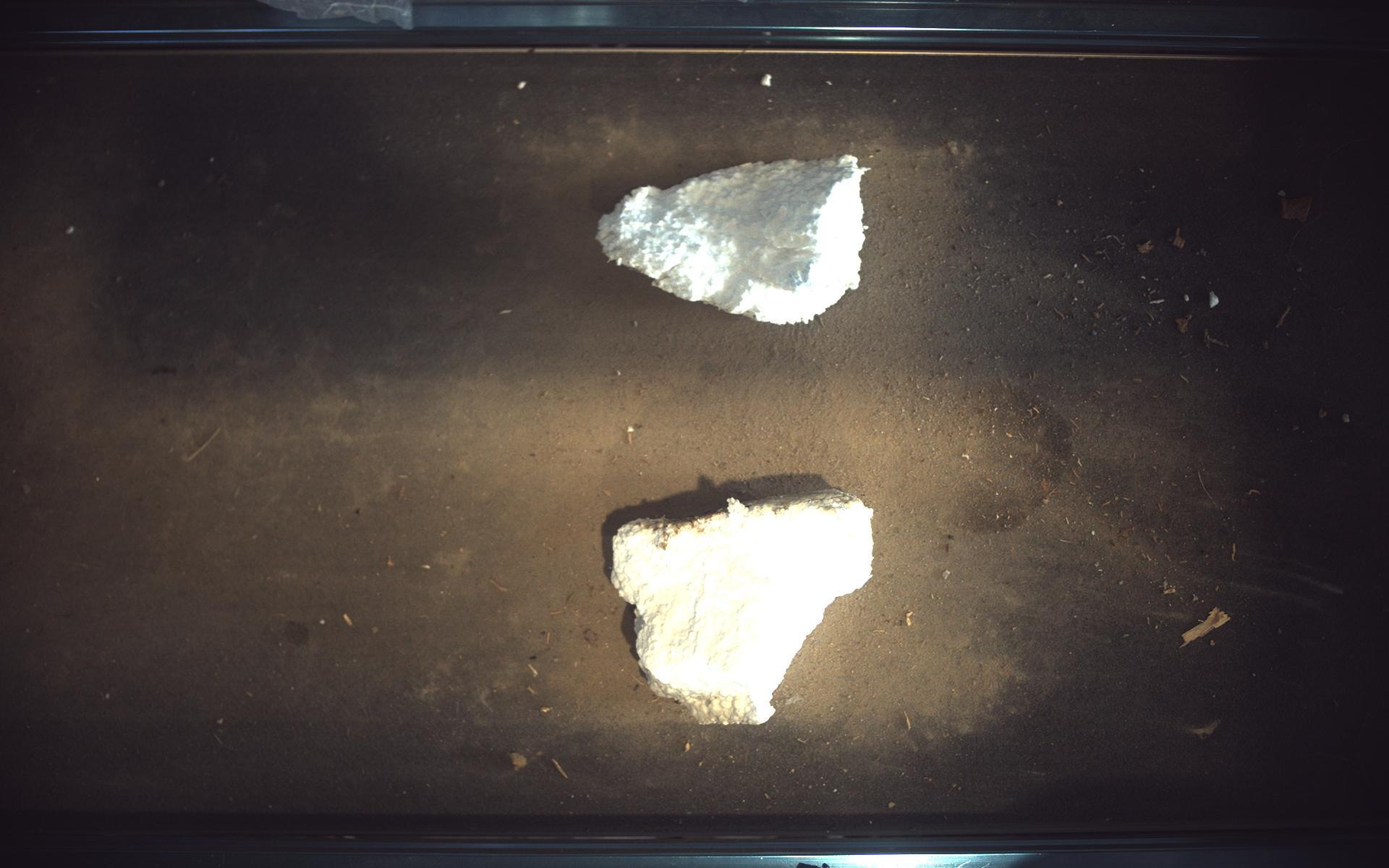foam: (612, 490, 875, 726), (597, 154, 868, 323)
